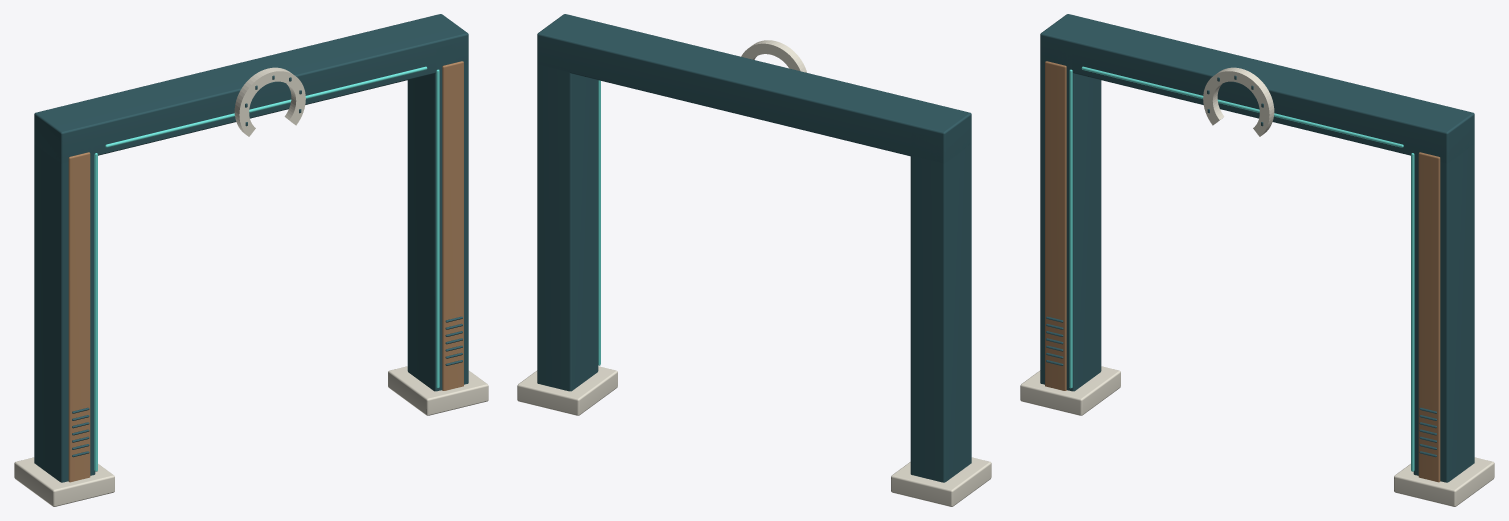
Rendered from entry-arch.glb.
3 views of the same model, side by side, from view 1: azimuth 30°, elevation 25°; view 2: azimuth 150°, elevation 25°; view 3: azimuth 330°, elevation 25° (orthographic).
Parts seen in each view (by area): view 1: ENV_crown, ENV_pillar_-1, ENV_pillar_1, PRP_oak_-1, PRP_oak_1, PRP_base_1, PRP_base_-1, HERO_horseshoe, PRP_trace_1, PRP_trace_-1, PRP_crown_trace; view 2: ENV_crown, ENV_pillar_-1, ENV_pillar_1, PRP_base_1, PRP_base_-1, HERO_horseshoe, PRP_trace_1; view 3: ENV_crown, ENV_pillar_1, ENV_pillar_-1, PRP_oak_1, PRP_oak_-1, PRP_base_-1, PRP_base_1, HERO_horseshoe, PRP_trace_-1, PRP_trace_1, PRP_crown_trace.
Part boxes in pixels (x1,y1,x2,y2): ENV_crown: (34, 14, 468, 163); ENV_pillar_-1: (34, 126, 95, 482); ENV_pillar_1: (407, 40, 468, 391); PRP_oak_-1: (68, 152, 90, 482); PRP_oak_1: (442, 61, 463, 390); PRP_base_1: (388, 366, 488, 415); PRP_base_-1: (14, 457, 114, 506); HERO_horseshoe: (234, 67, 305, 136); PRP_trace_1: (436, 69, 439, 388); PRP_trace_-1: (94, 153, 97, 471); PRP_crown_trace: (105, 66, 427, 147); ENV_crown: (537, 14, 971, 163); ENV_pillar_-1: (910, 123, 971, 482); ENV_pillar_1: (537, 46, 598, 391); PRP_base_1: (517, 366, 617, 415); PRP_base_-1: (891, 457, 991, 506); HERO_horseshoe: (741, 40, 806, 72); PRP_trace_1: (598, 80, 600, 365); ENV_crown: (1040, 14, 1474, 163); ENV_pillar_1: (1413, 123, 1474, 482); ENV_pillar_-1: (1040, 45, 1101, 391); PRP_oak_1: (1418, 152, 1440, 482); PRP_oak_-1: (1045, 61, 1066, 390); PRP_base_-1: (1020, 366, 1120, 415); PRP_base_1: (1394, 457, 1494, 506); HERO_horseshoe: (1203, 67, 1274, 136); PRP_trace_-1: (1069, 69, 1072, 388); PRP_trace_1: (1411, 153, 1414, 471); PRP_crown_trace: (1081, 66, 1403, 147).
Bounding box in the file's own units: 6.3 × 5.3 × 1.06.
